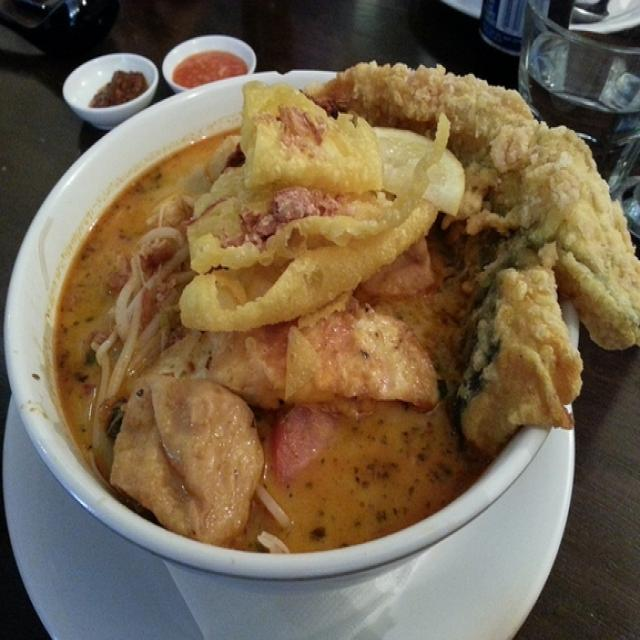面条主食: (11, 11, 631, 610)
